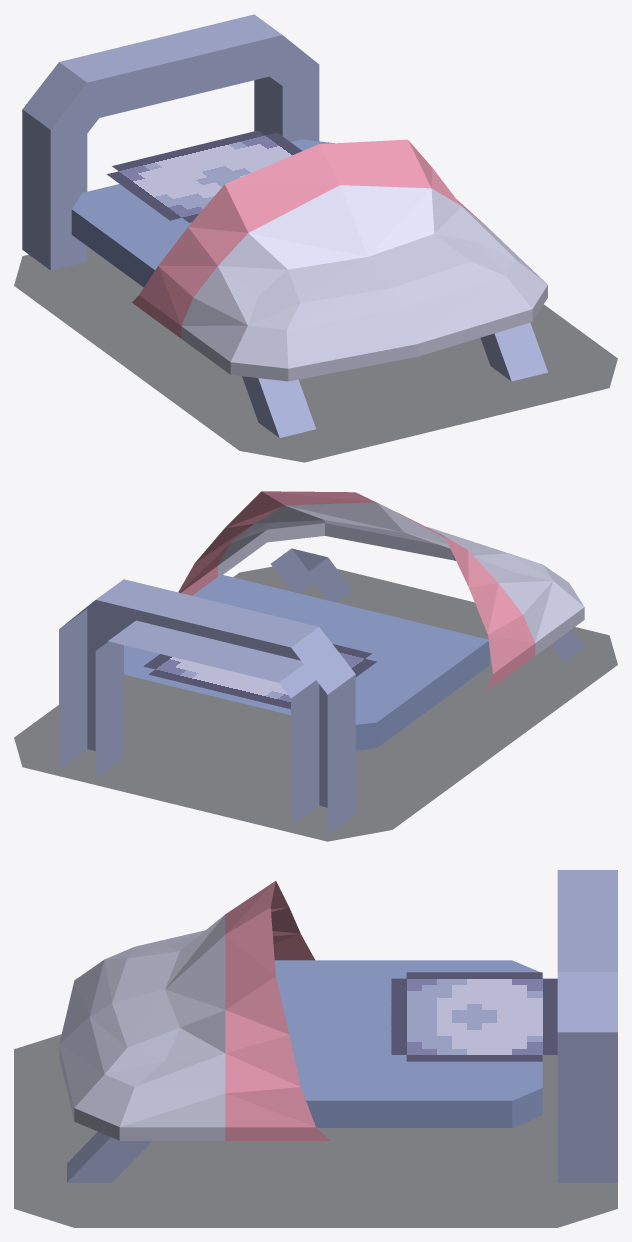
The model's file is modelo.obj.
The picture shows the model from 3 angles, top to bottom: view 1: azimuth 30°, elevation 25°; view 2: azimuth 150°, elevation 25°; view 3: azimuth 270°, elevation 25°; orthographic projection. The views are drawn at different scales.
Visible parts, largest first — view 1: polygon1, polygon0; view 2: polygon1, polygon0; view 3: polygon1, polygon0.
Part boxes in pixels (<box>): polygon1: <box>22,14,547,437</box>; polygon0: <box>14,246,617,462</box>; polygon1: <box>59,491,584,834</box>; polygon0: <box>14,567,617,841</box>; polygon1: <box>59,870,617,1182</box>; polygon0: <box>14,1034,617,1227</box>.
Bounding box in the file's own units: 31 × 15.5 × 40.
Materials: 2 (2 with a texture image).
